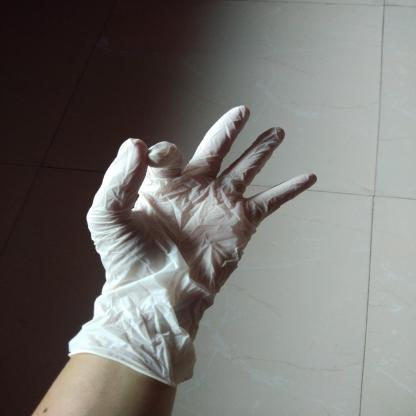gloved_hand: (58, 102, 320, 390)
